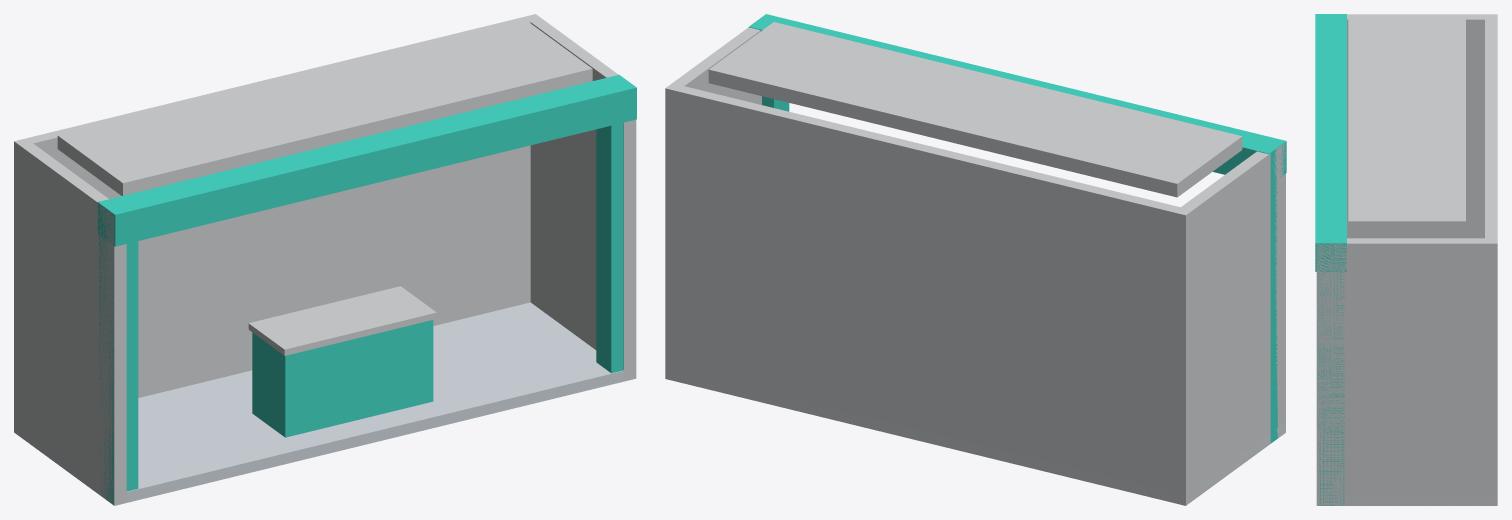
3 views of the same model, side by side, from view 1: azimuth 30°, elevation 25°; view 2: azimuth 150°, elevation 25°; view 3: azimuth 270°, elevation 25° (orthographic). The views are drawn at different scales.
Visible parts, largest first — view 1: Exhibition Booth Concept; view 2: Exhibition Booth Concept; view 3: Exhibition Booth Concept.
Part boxes in pixels (bbox=[...]): Exhibition Booth Concept: bbox=[14, 14, 636, 505]; Exhibition Booth Concept: bbox=[665, 14, 1286, 505]; Exhibition Booth Concept: bbox=[1315, 14, 1497, 505].
Bounding box in the file's own units: 6 × 3.34 × 2.01.
